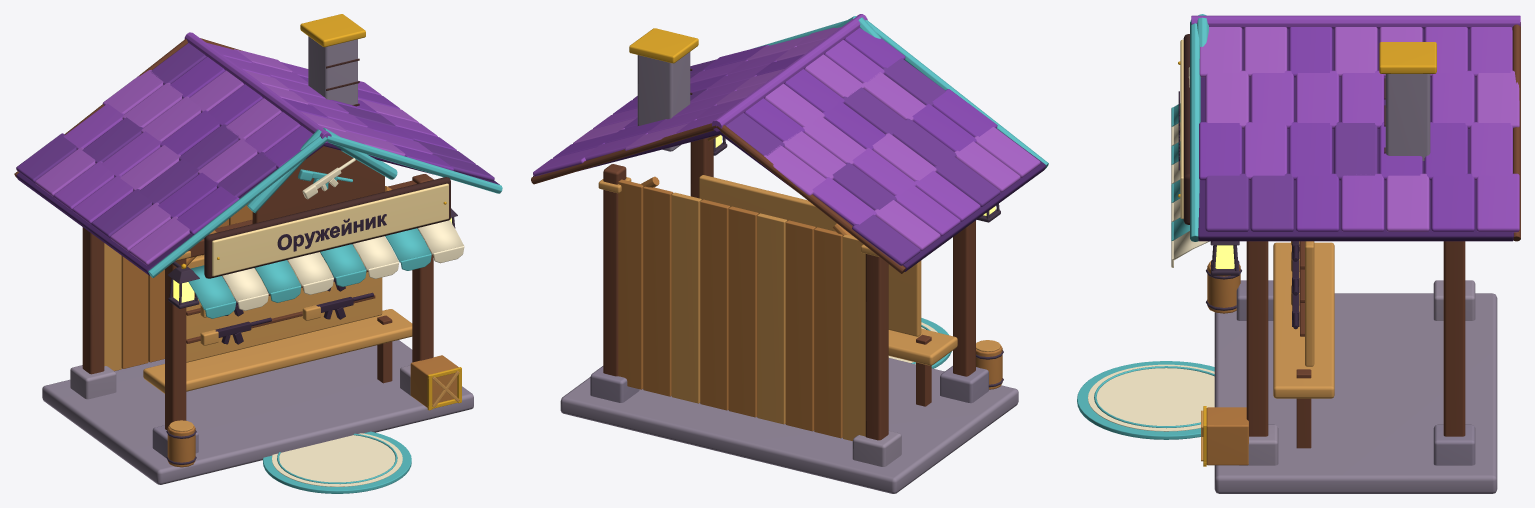
The model's file is Pavilion_Weapons.glb.
3 renders of one model, left to right at view 1: azimuth 30°, elevation 25°; view 2: azimuth 150°, elevation 25°; view 3: azimuth 270°, elevation 25°, orthographic. The views are drawn at different scales.
Visible parts, largest first — view 1: Pavilion_Weapons__Roof, Pavilion_Weapons__Structure, Pavilion_Weapons__DisplayProps, Pavilion_Weapons__Awning, Pavilion_Weapons__SignFrame, Pavilion_Weapons__Marker, Pavilion_Weapons__SignText, Pavilion_Weapons__Emblem, Pavilion_Weapons__Fixtures; view 2: Pavilion_Weapons__Structure, Pavilion_Weapons__Roof, Pavilion_Weapons__DisplayProps; view 3: Pavilion_Weapons__Roof, Pavilion_Weapons__Structure, Pavilion_Weapons__DisplayProps, Pavilion_Weapons__Marker, Pavilion_Weapons__Awning, Pavilion_Weapons__SignFrame, Pavilion_Weapons__Fixtures.
Part boxes in pixels (bbox=[...]): Pavilion_Weapons__Roof: bbox=[14, 14, 502, 277]; Pavilion_Weapons__Structure: bbox=[42, 174, 473, 484]; Pavilion_Weapons__DisplayProps: bbox=[143, 244, 461, 467]; Pavilion_Weapons__Awning: bbox=[188, 220, 464, 318]; Pavilion_Weapons__SignFrame: bbox=[204, 177, 450, 278]; Pavilion_Weapons__Marker: bbox=[263, 431, 411, 493]; Pavilion_Weapons__SignText: bbox=[277, 214, 386, 251]; Pavilion_Weapons__Emblem: bbox=[298, 158, 355, 199]; Pavilion_Weapons__Fixtures: bbox=[167, 208, 457, 308]; Pavilion_Weapons__Structure: bbox=[560, 134, 1018, 493]; Pavilion_Weapons__Roof: bbox=[531, 14, 1048, 273]; Pavilion_Weapons__DisplayProps: bbox=[699, 175, 1003, 406]; Pavilion_Weapons__Roof: bbox=[1190, 14, 1520, 241]; Pavilion_Weapons__Structure: bbox=[1214, 241, 1497, 493]; Pavilion_Weapons__DisplayProps: bbox=[1201, 241, 1334, 466]; Pavilion_Weapons__Marker: bbox=[1077, 361, 1214, 439]; Pavilion_Weapons__Awning: bbox=[1171, 103, 1209, 267]; Pavilion_Weapons__SignFrame: bbox=[1178, 34, 1189, 224]; Pavilion_Weapons__Fixtures: bbox=[1210, 241, 1239, 275].
Bounding box in the file's own units: 13.14 × 12.05 × 11.93.
